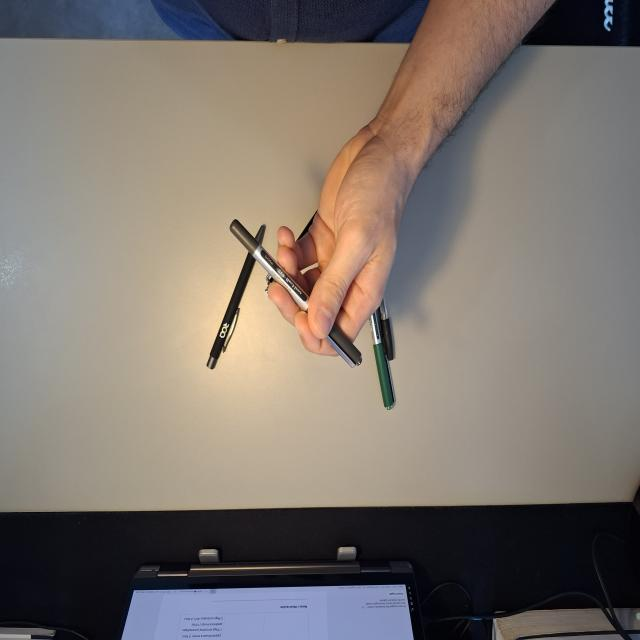glove_off: (266, 124, 406, 360)
